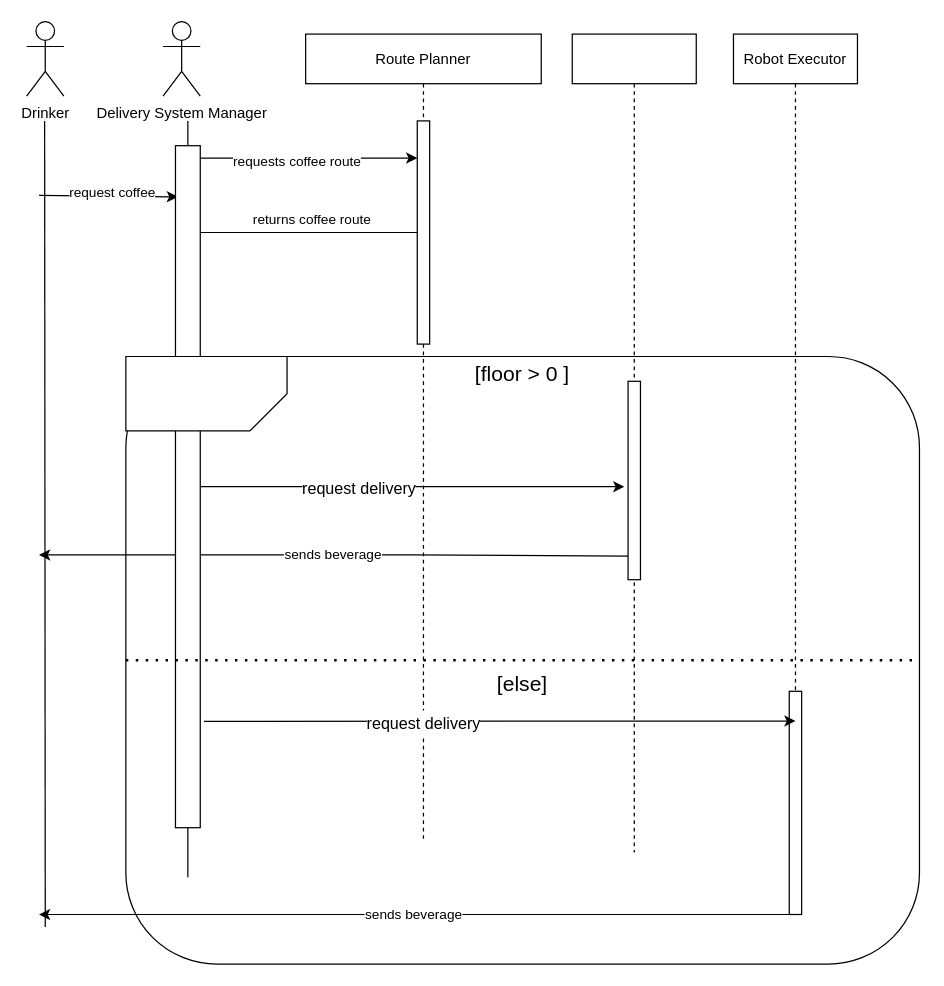
Some shapes in this 944 by 986 pixel diagram are drawn without their labels. Here are the shapes that lost their labels. From the top down, the box of each, then its label:
(125, 355, 287, 431): alt
(571, 33, 696, 852): Drone Executor
